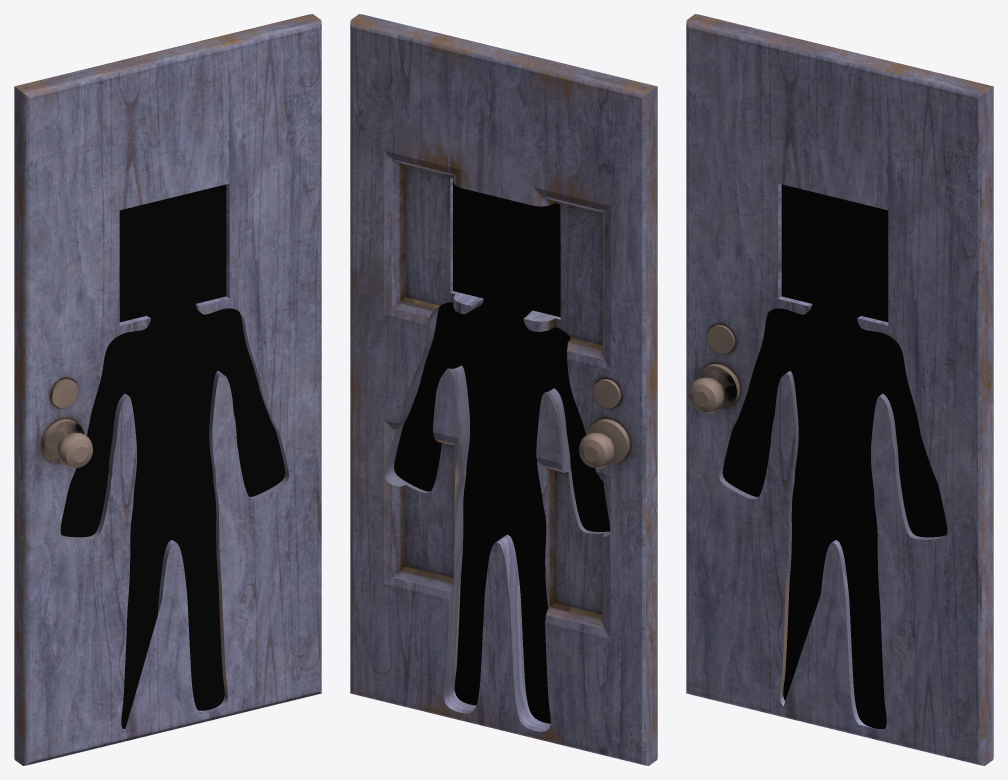
Rendered from DoorCutout.fbx.
3 renders of one model, left to right at view 1: azimuth 30°, elevation 25°; view 2: azimuth 150°, elevation 25°; view 3: azimuth 330°, elevation 25°, orthographic.
Visible parts, largest first — view 1: Cube; view 2: Cube; view 3: Cube.
Part boxes in pixels (bbox=[...]): Cube: bbox=[14, 14, 321, 765]; Cube: bbox=[350, 14, 657, 765]; Cube: bbox=[686, 14, 993, 765].
Size of the model in its own units: 594 by 1282 by 179.
